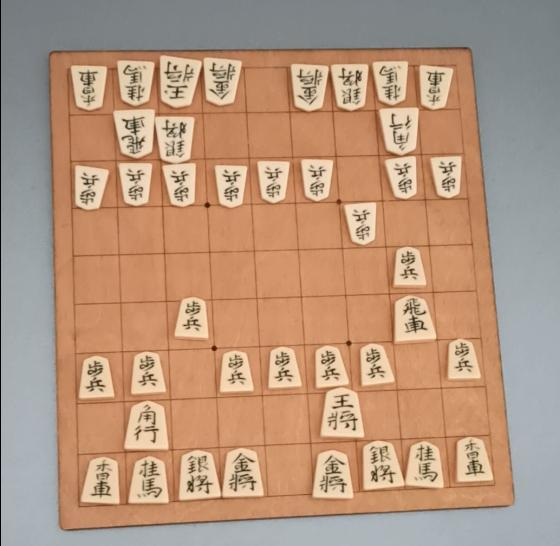board: (69, 65, 496, 506)
